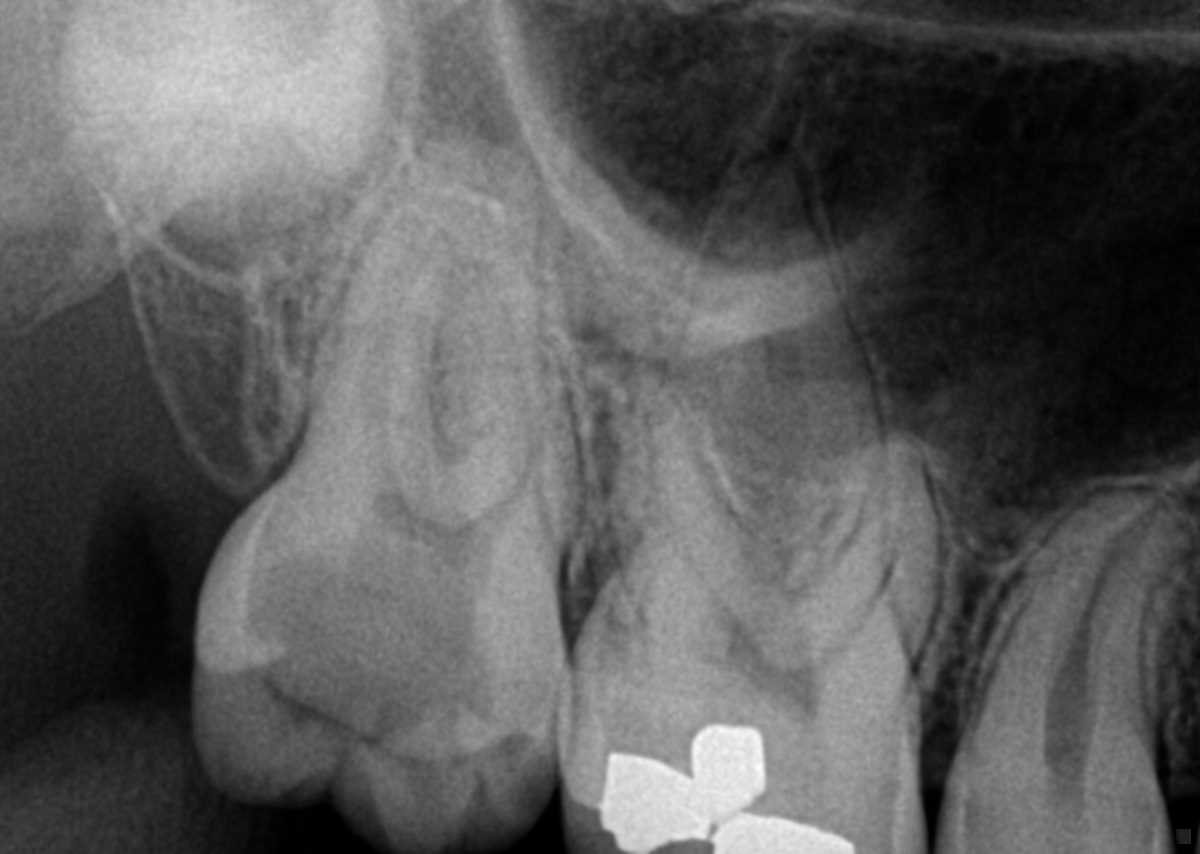Distal Canal: (358, 239, 423, 483), (651, 468, 732, 629)
Distal Root: (597, 358, 777, 636), (282, 216, 451, 486)
Main Canal: (1045, 502, 1160, 744)
Main Root: (963, 477, 1200, 754)
Mesial Canal: (805, 536, 903, 674), (484, 314, 540, 522)
Mesial Root: (447, 250, 582, 553), (804, 436, 945, 687)
Palatal Canal: (726, 233, 808, 504)
Palatal Root: (595, 145, 912, 703), (287, 137, 563, 544)
decay: (246, 544, 495, 747)
